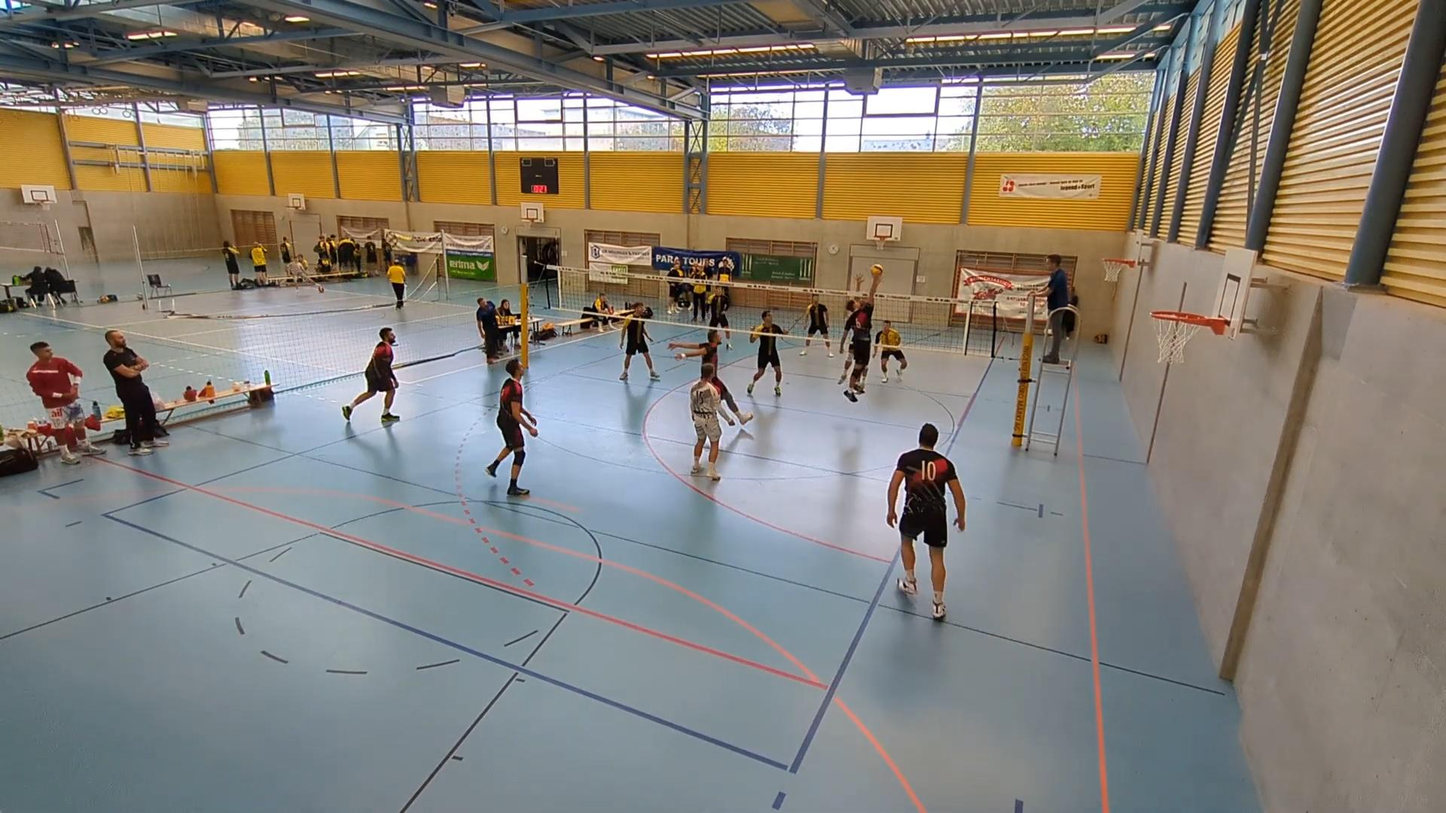attacco: (843, 271, 885, 408)
muro: (844, 263, 866, 311)
